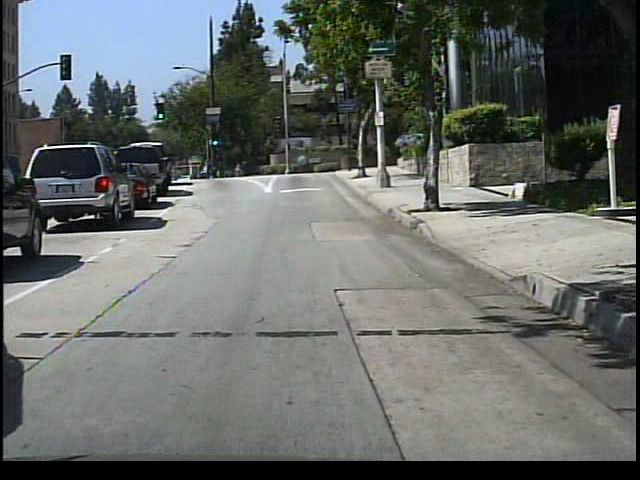person: (204, 156, 218, 179)
